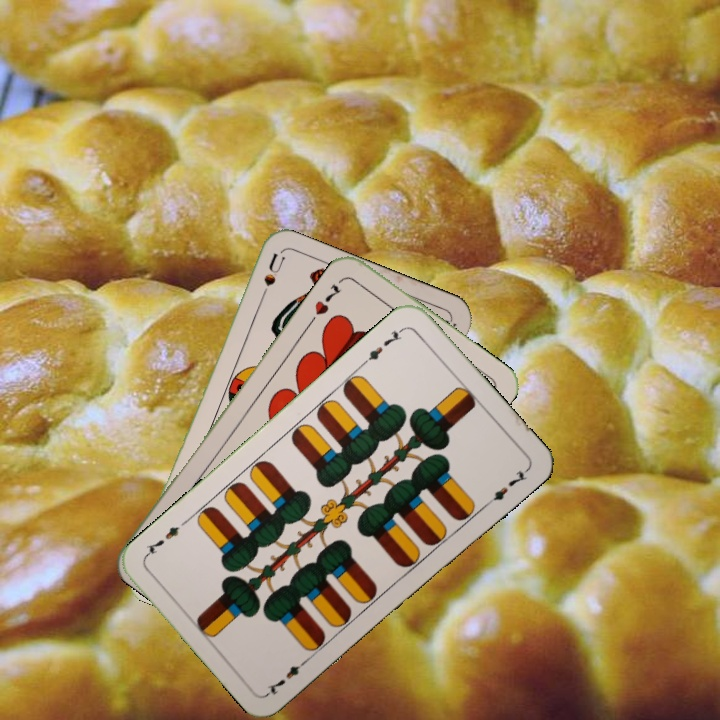E7: (263, 654, 312, 698), (359, 323, 407, 367)
H7: (310, 280, 344, 318)
SU: (254, 250, 288, 308)
